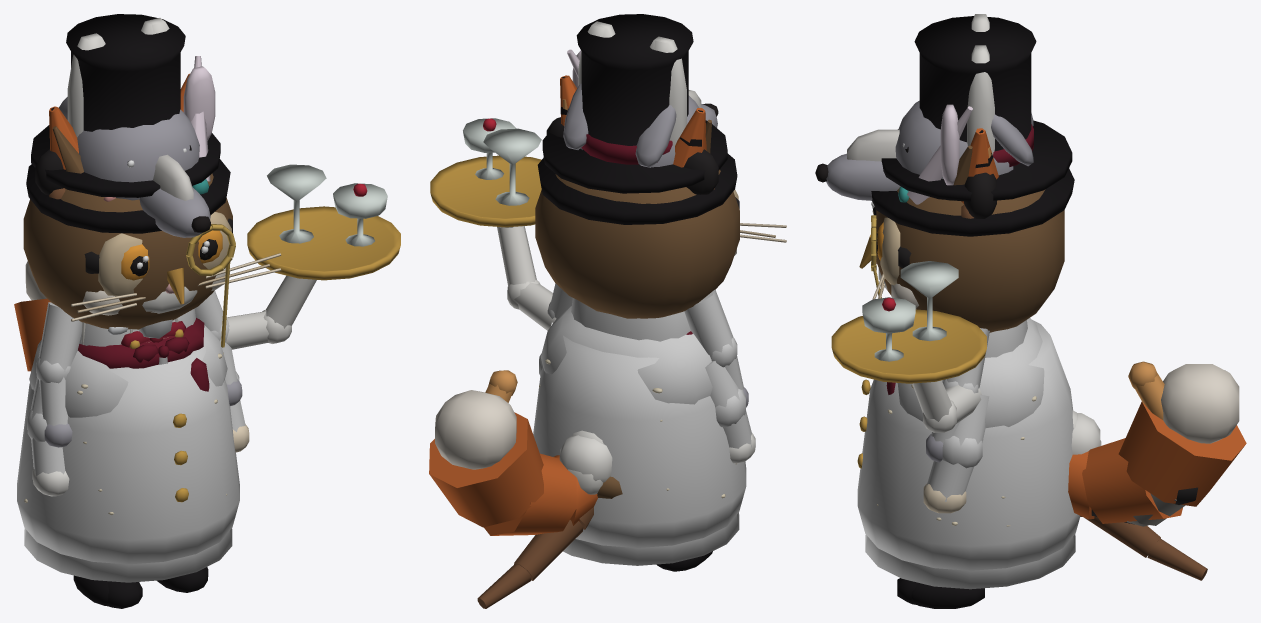
File: patrons.glb
3 views of the same model, side by side, from view 1: azimuth 30°, elevation 25°; view 2: azimuth 150°, elevation 25°; view 3: azimuth 270°, elevation 25° (orthographic). The views are drawn at different scales.
Parts seen in each view (by area): view 1: Patron_Panda, Patron_Owl, Patron_Greyhound, Patron_Bella, Patron_Otter, Patron_Rabbit, Patron_Fox, Patron_Feline, Patron_Raccoon; view 2: Patron_Panda, Patron_Owl, Patron_Fox, Patron_Bella, Patron_Greyhound, Patron_Otter, Patron_Rabbit, Patron_Feline; view 3: Patron_Panda, Patron_Owl, Patron_Fox, Patron_Bella, Patron_Greyhound, Patron_Otter, Patron_Rabbit, Patron_Feline, Patron_Raccoon.
Boxes of the visible parts, left/top/right/bottom form: Patron_Panda: left=17, top=149, right=245, bottom=564; Patron_Owl: left=23, top=14, right=235, bottom=347; Patron_Greyhound: left=36, top=97, right=242, bottom=608; Patron_Bella: left=32, top=18, right=400, bottom=606; Patron_Otter: left=26, top=56, right=269, bottom=313; Patron_Rabbit: left=24, top=18, right=232, bottom=582; Patron_Fox: left=14, top=73, right=229, bottom=371; Patron_Feline: left=71, top=253, right=281, bottom=452; Patron_Raccoon: left=84, top=218, right=232, bottom=364; Patron_Panda: left=533, top=117, right=751, bottom=547; Patron_Owl: left=535, top=14, right=739, bottom=498; Patron_Fox: left=429, top=75, right=736, bottom=535; Patron_Bella: left=430, top=22, right=755, bottom=571; Patron_Greyhound: left=547, top=83, right=748, bottom=407; Patron_Otter: left=477, top=49, right=775, bottom=608; Patron_Rabbit: left=559, top=21, right=739, bottom=565; Patron_Feline: left=485, top=99, right=786, bottom=402; Patron_Panda: left=857, top=172, right=1101, bottom=570; Patron_Owl: left=859, top=16, right=1072, bottom=332; Patron_Fox: left=891, top=128, right=1246, bottom=523; Patron_Bella: left=831, top=15, right=1077, bottom=608; Patron_Greyhound: left=815, top=100, right=1033, bottom=604; Patron_Otter: left=871, top=104, right=1207, bottom=580; Patron_Rabbit: left=865, top=14, right=1100, bottom=589; Patron_Feline: left=872, top=147, right=1164, bottom=513; Patron_Raccoon: left=872, top=207, right=1197, bottom=526.
Size of the model in its own units: 0.7755 by 1.2 by 0.8481.
